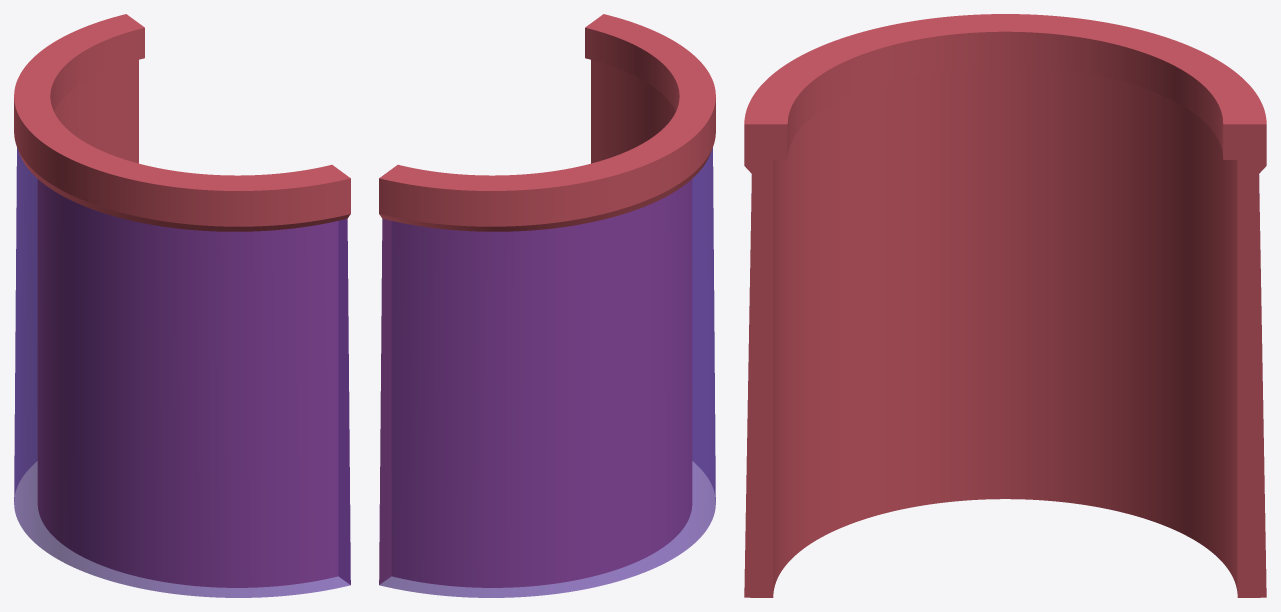
The model's file is Pipe.fbx.
3 views of the same model, side by side, from view 1: azimuth 30°, elevation 25°; view 2: azimuth 150°, elevation 25°; view 3: azimuth 270°, elevation 25° (orthographic). The views are drawn at different scales.
Parts seen in each view (by area): view 1: Cylinder; view 2: Cylinder; view 3: Cylinder.
Part boxes in pixels (bbox=[...]): Cylinder: bbox=[14, 14, 350, 597]; Cylinder: bbox=[379, 14, 715, 597]; Cylinder: bbox=[744, 14, 1266, 597].
Bounding box in the file's own units: 100 × 200 × 200.
